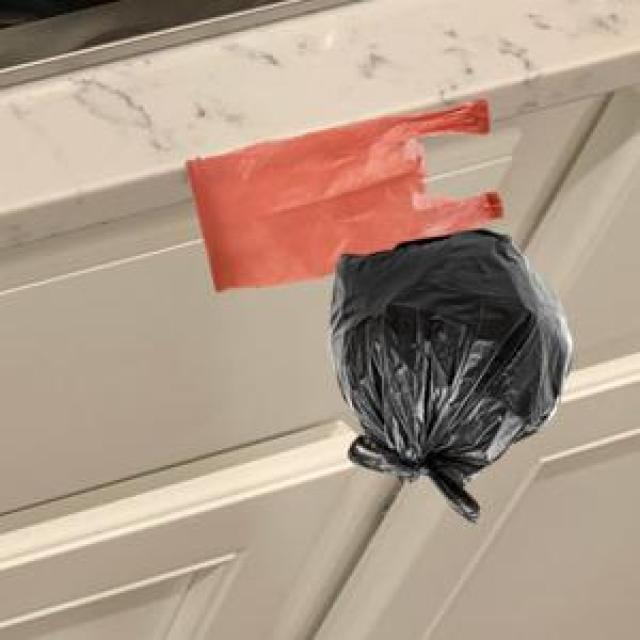miscellaneous trash: (324, 226, 570, 518)
